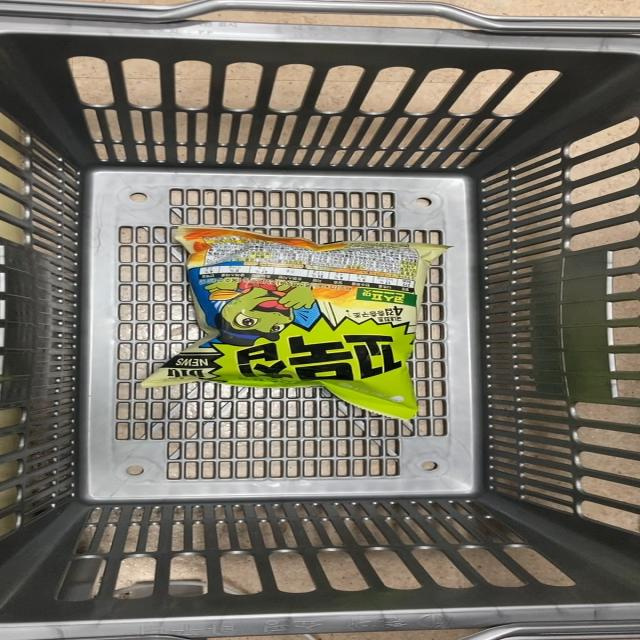ggobukchip: (171, 234, 418, 398)
